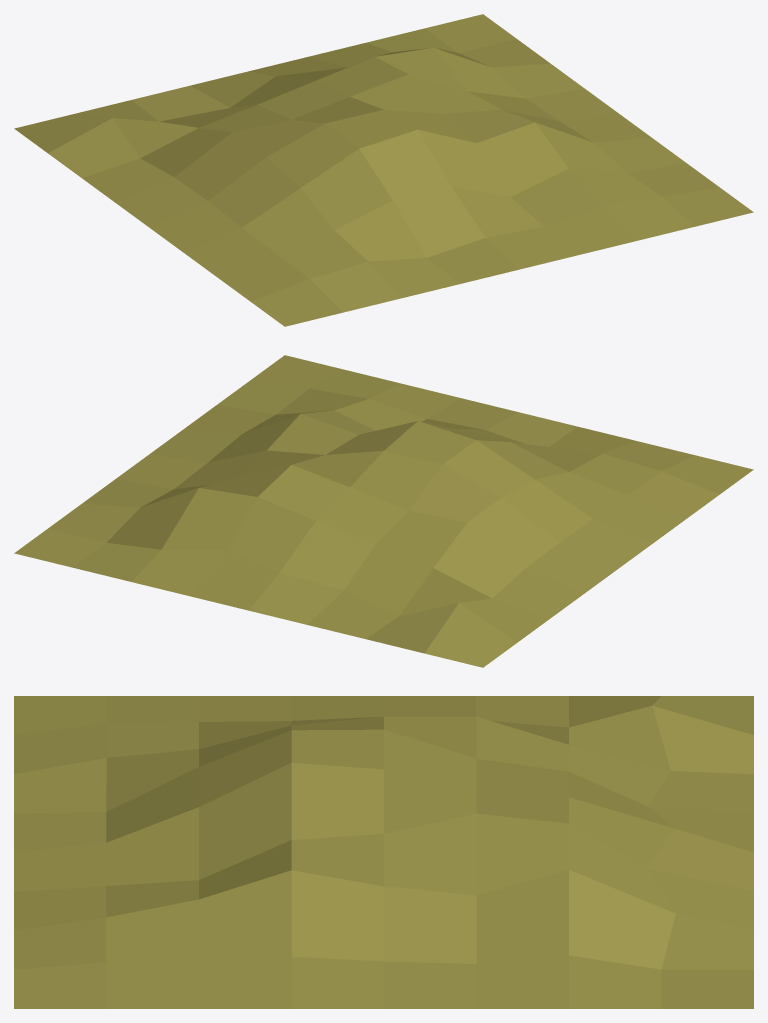
Rendered from Terrain_7_Yellow.fbx.
3 views of the same model, one above another, from view 1: azimuth 30°, elevation 25°; view 2: azimuth 150°, elevation 25°; view 3: azimuth 270°, elevation 25° (orthographic). The views are drawn at different scales.
Visible parts, largest first — view 1: Terrain_7_Yellow; view 2: Terrain_7_Yellow; view 3: Terrain_7_Yellow.
Boxes of the visible parts, bbox=[...] form: Terrain_7_Yellow: bbox=[14, 14, 753, 326]; Terrain_7_Yellow: bbox=[14, 355, 753, 667]; Terrain_7_Yellow: bbox=[14, 696, 753, 1008].
Size of the model in its own units: 4000 by 535 by 4000.
